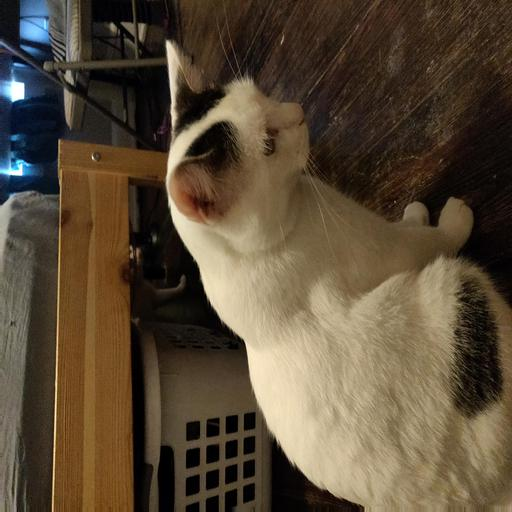cat: (168, 73, 488, 393)
